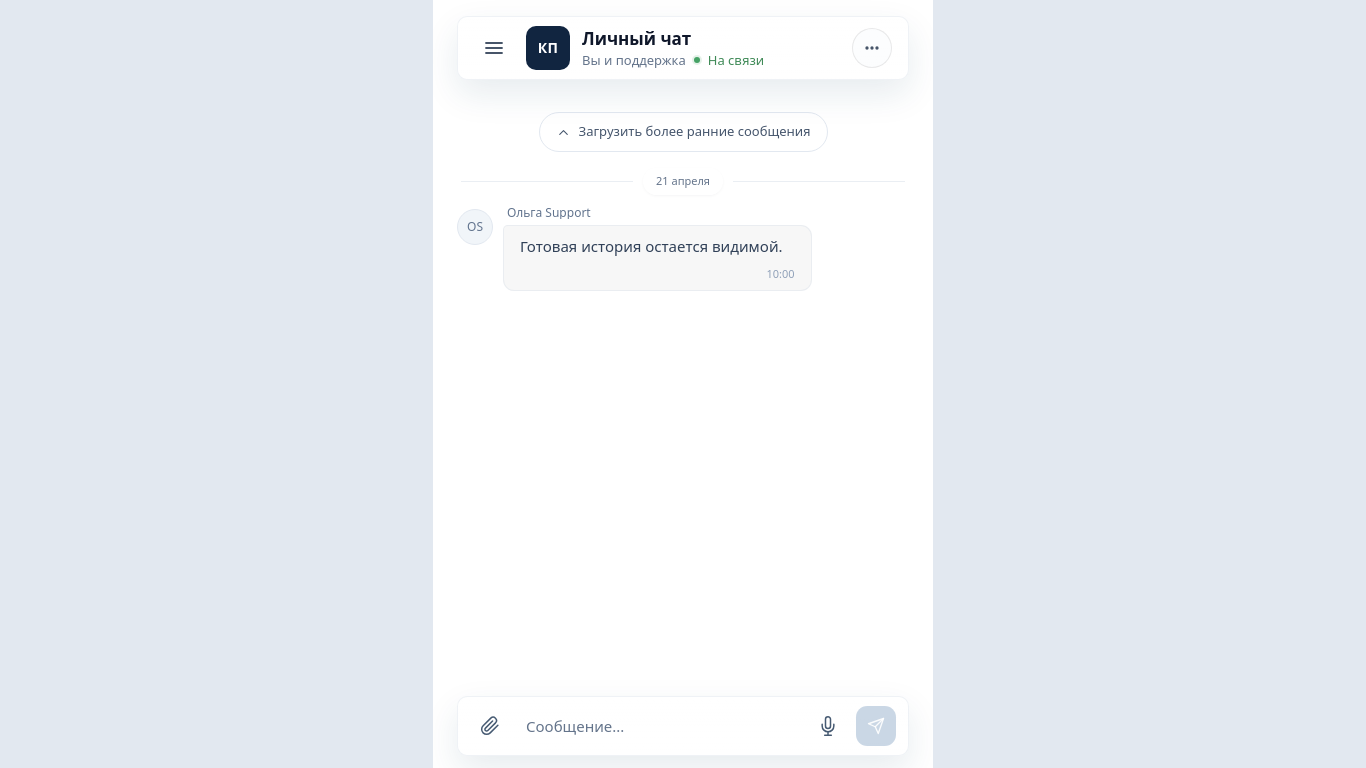
Test: ChatPage history loading › does not merge a non-ready older history response into the ready transcript
Click the button "Загрузить более ранние сообщения": (683,132) [538, 112, 828, 152]
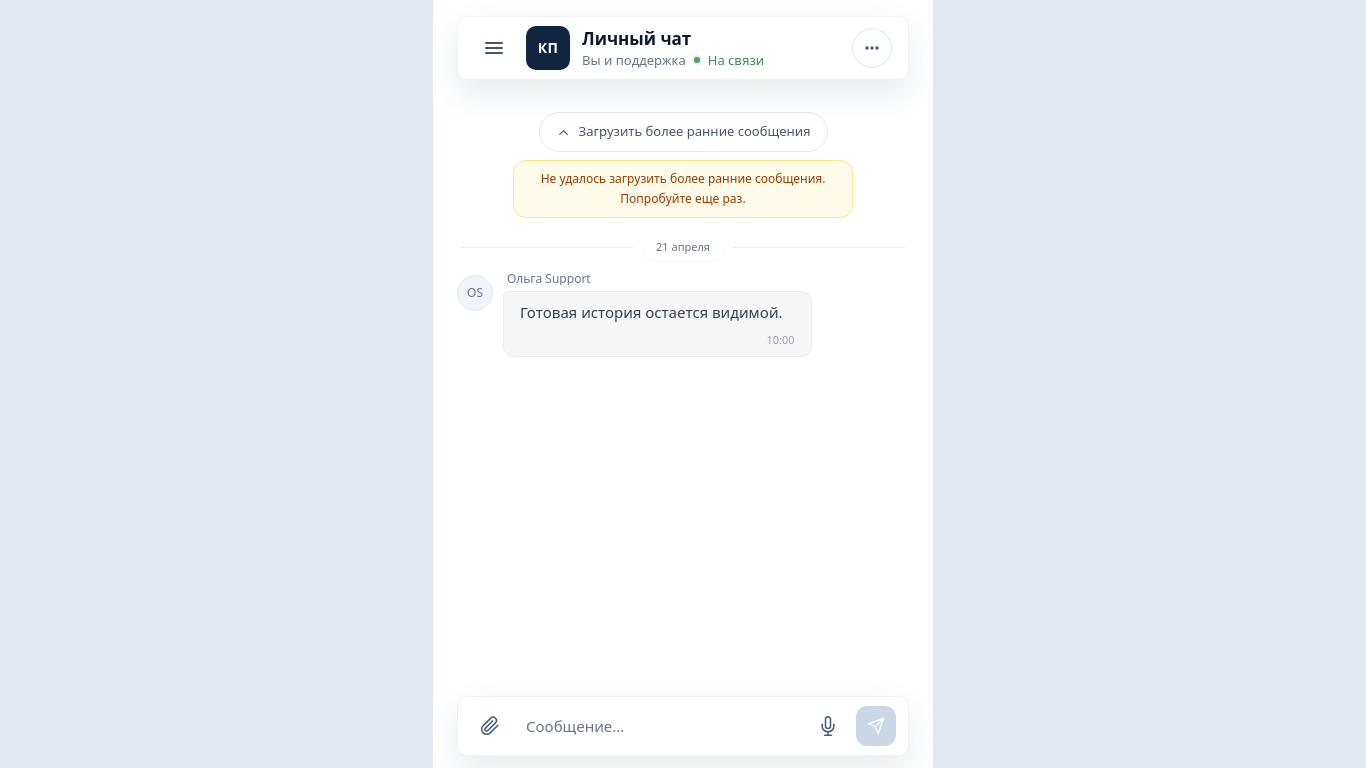
Expected: the text "Готовая история остается видимой." is shown, [520, 302, 782, 322]
Expected: the text "Не удалось загрузить более ранние сообщения. Попробуйте еще раз." is shown, [513, 160, 853, 218]
